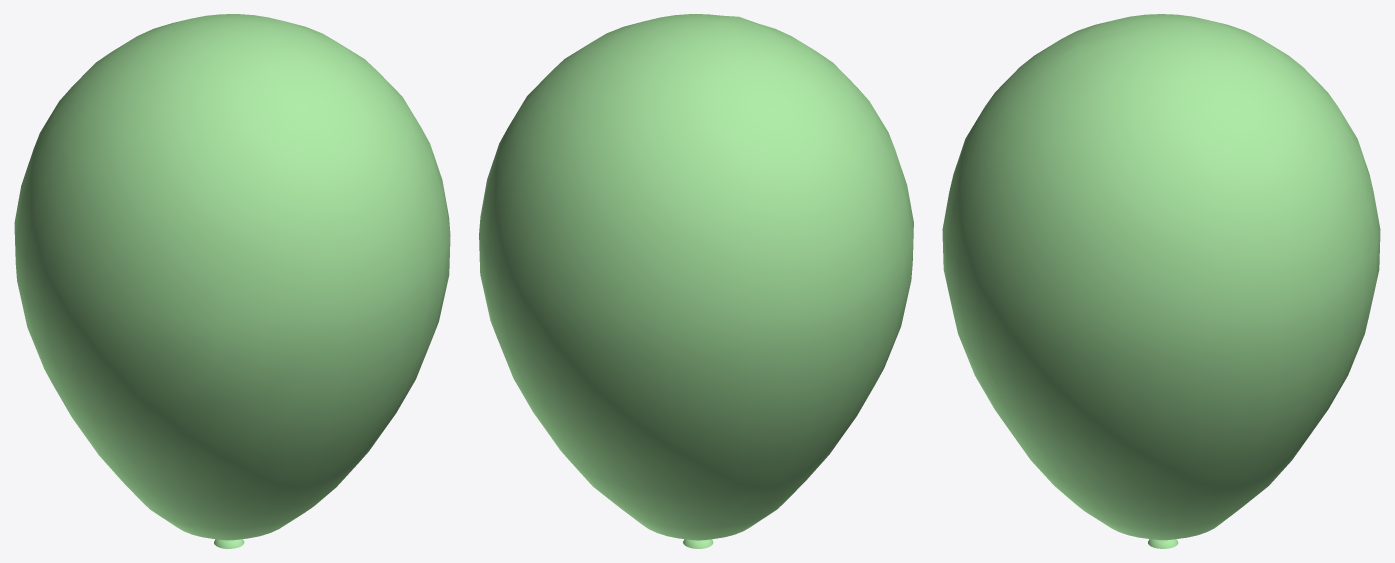
The model's file is balloon.glb.
3 renders of one model, left to right at view 1: azimuth 30°, elevation 25°; view 2: azimuth 150°, elevation 25°; view 3: azimuth 270°, elevation 25°, orthographic.
Visible parts, largest first — view 1: Balloon.001; view 2: Balloon.001; view 3: Balloon.001.
Part boxes in pixels (x1=…): Balloon.001: x1=14, y1=14, x2=450, y2=548; Balloon.001: x1=479, y1=14, x2=913, y2=548; Balloon.001: x1=942, y1=14, x2=1380, y2=548.
Size of the model in its own units: 0.2582 by 0.3317 by 0.2582.
